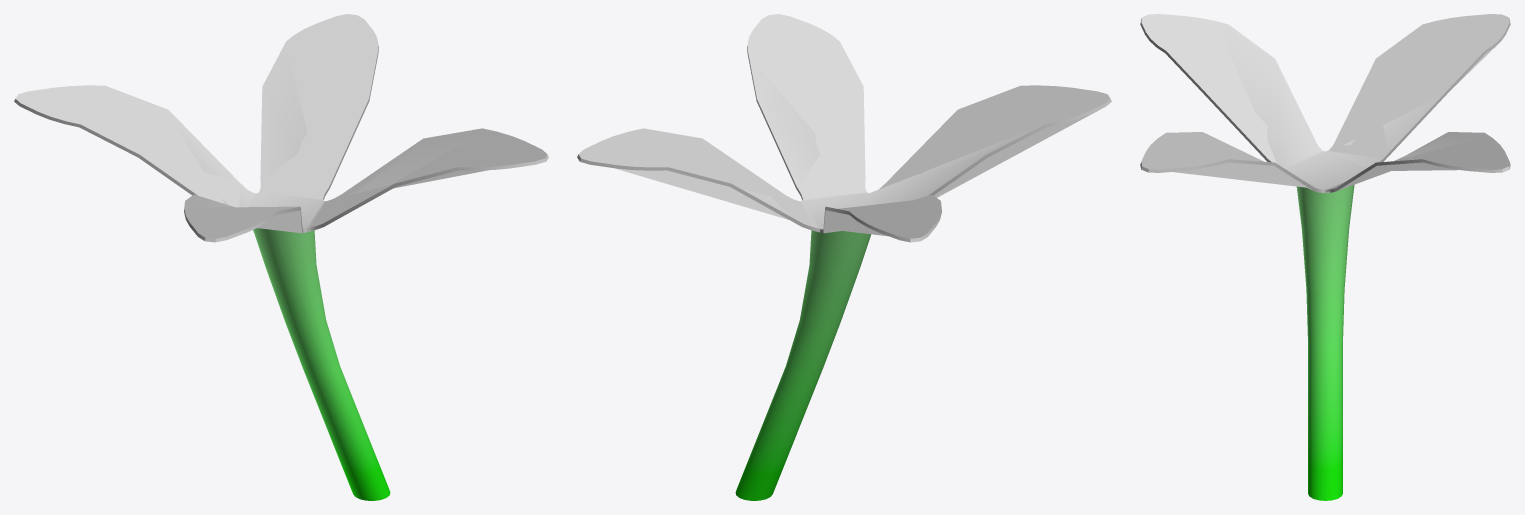
Rendered from flower_003.fbx.
3 renders of one model, left to right at view 1: azimuth 30°, elevation 25°; view 2: azimuth 150°, elevation 25°; view 3: azimuth 270°, elevation 25°, orthographic. The views are drawn at different scales.
Visible parts, largest first — view 1: Circle; view 2: Circle; view 3: Circle.
Boxes of the visible parts, bbox=[...] form: Circle: bbox=[14, 14, 548, 500]; Circle: bbox=[577, 14, 1111, 500]; Circle: bbox=[1140, 14, 1510, 500].
Size of the model in its own units: 17.68 by 19.01 by 17.68.
2 materials, 1 textured.
